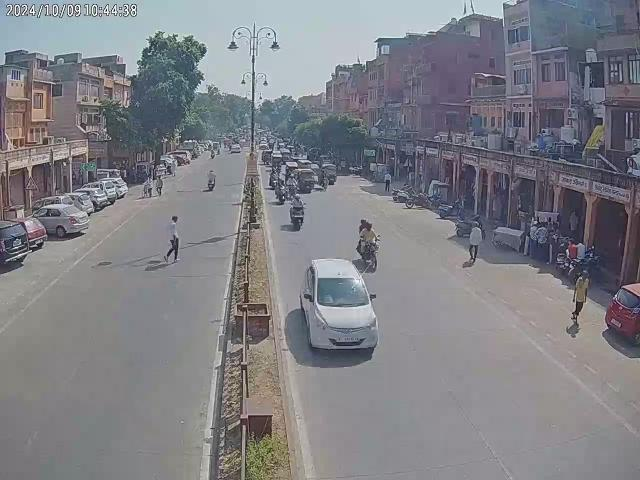auto: (292, 168, 316, 192)
bicycle-rider: (142, 176, 154, 198)
car: (300, 257, 378, 352), (0, 212, 46, 270), (606, 271, 640, 348), (28, 199, 91, 239), (81, 176, 128, 202)
helmet: (365, 220, 374, 230), (294, 194, 302, 204)
license_plate: (340, 336, 360, 342)
motorbike: (568, 250, 600, 282), (404, 191, 432, 212)
motorbike-rider: (354, 218, 382, 272), (288, 195, 305, 231)
person: (570, 269, 590, 323), (466, 218, 484, 266), (167, 216, 180, 262), (384, 170, 392, 192)
scooty: (436, 198, 468, 220)
scooty-rider: (274, 180, 288, 204), (206, 169, 217, 192)
